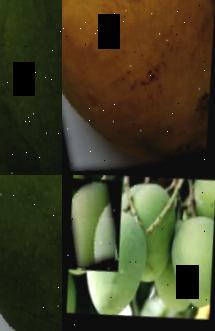Ripe: (62, 0, 215, 175)
Unripe: (0, 0, 62, 175), (0, 175, 62, 331), (65, 177, 122, 273)
